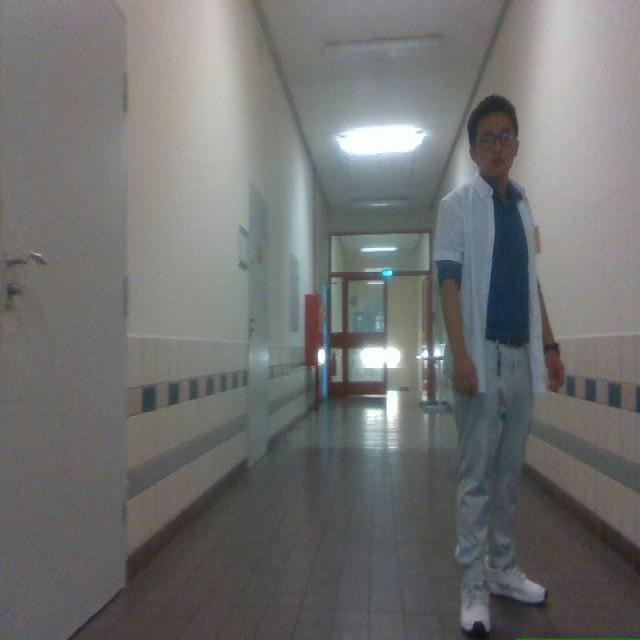humans: (434, 96, 563, 637)
